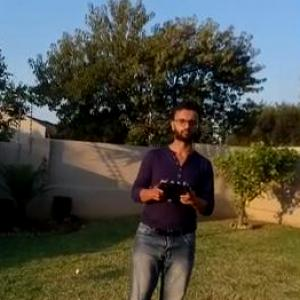follow: (118, 93, 217, 299)
